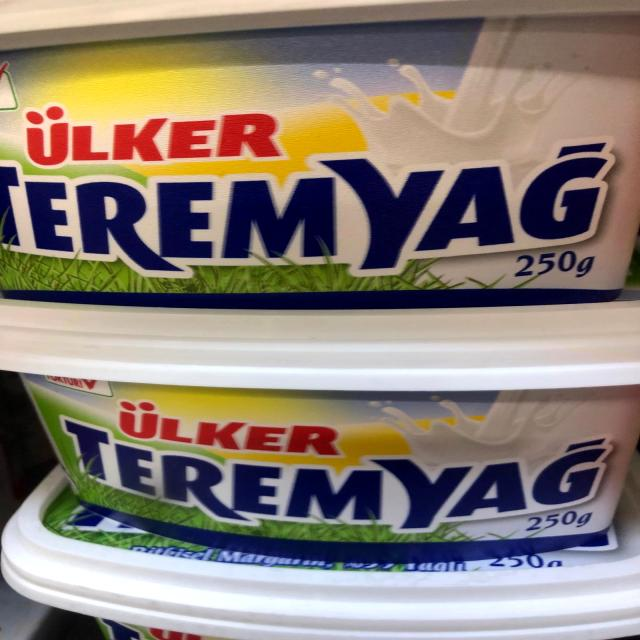margarine: (0, 2, 640, 325), (0, 327, 640, 560)
